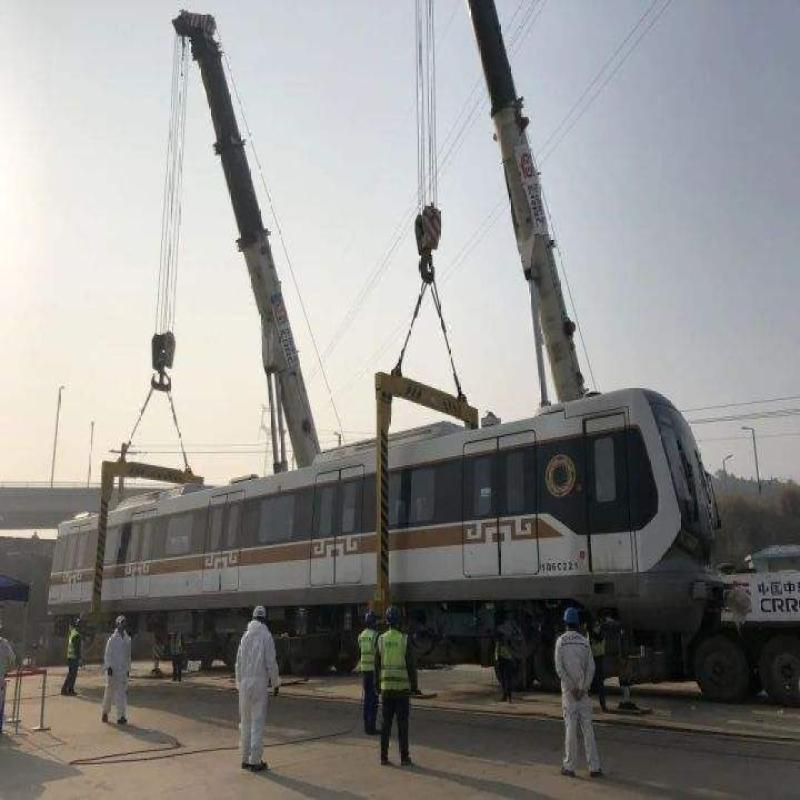train: (51, 432, 717, 631)
